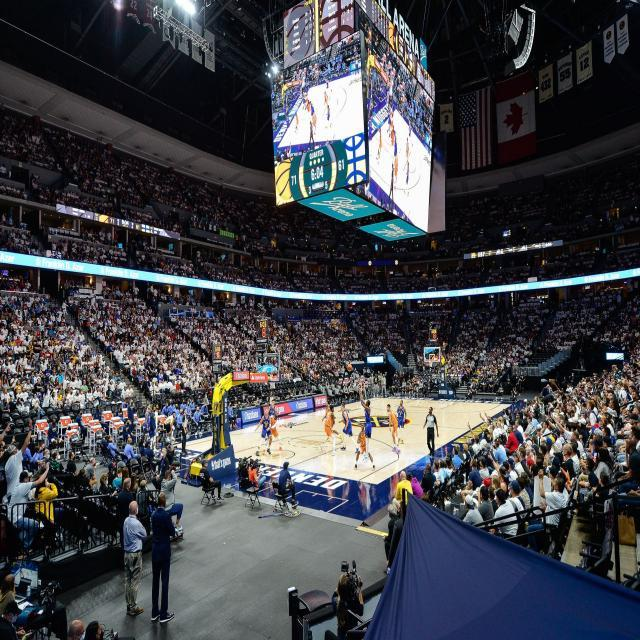rim: (346, 360, 354, 374)
